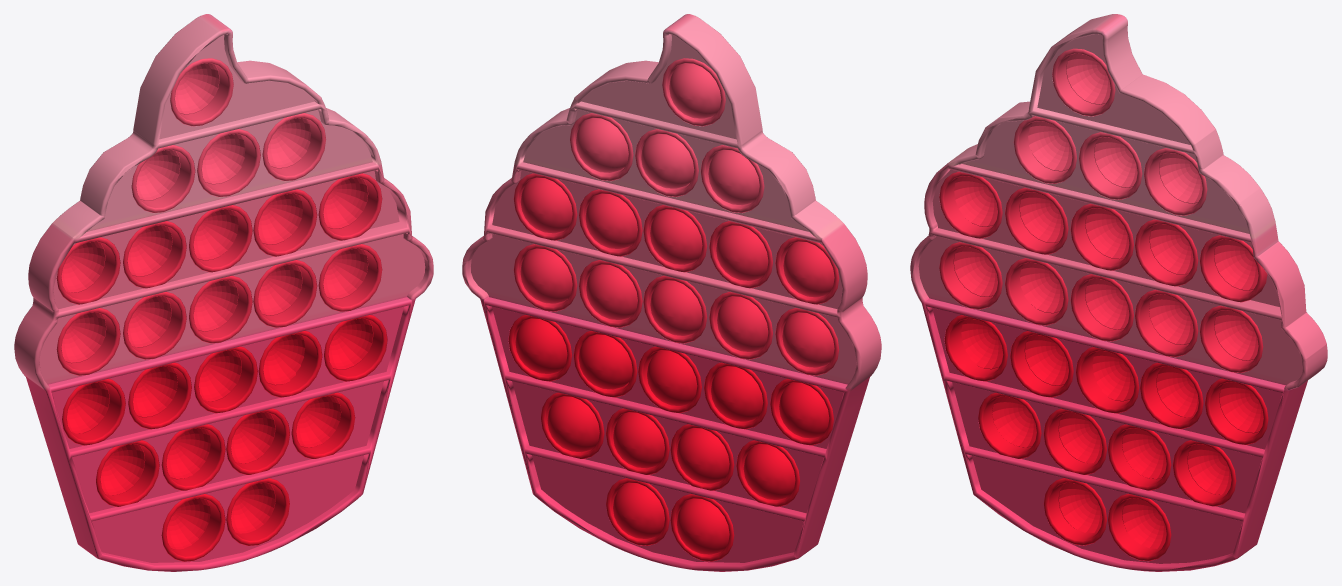
Rendered from Ice Cream Pop.fbx.
3 renders of one model, left to right at view 1: azimuth 30°, elevation 25°; view 2: azimuth 150°, elevation 25°; view 3: azimuth 330°, elevation 25°, orthographic.
Visible parts, largest first — view 1: PopIt06_Frame, PopIt06_Base, Slot15_1, Slot02_1, Slot01_1, Slot12_1, Slot24_1, Slot10_1, Slot16_1, Slot23_1, Slot09_1, Slot18_1 (+40 smaller); view 2: PopIt06_Frame, PopIt06_Base, Pop14_1__9_, Pop14_1__8_, Pop14_1__4_, Pop14_1__6_, Pop00_1__2_, Pop14_1__7_, Pop04_1__2_, Pop00_1__1_, Pop04_1__7_, Pop04_1__1_ (+40 smaller); view 3: PopIt06_Frame, PopIt06_Base, Slot02_1, Slot18_1, Slot16_1, Slot15_1, Slot03_1, Slot24_1, Slot01_1, Slot12_1, Slot13_1, Slot08_1 (+40 smaller).
Boxes of the visible parts, left/top/right/bottom form: PopIt06_Frame: left=14, top=14, right=433, bottom=571; PopIt06_Base: left=39, top=35, right=425, bottom=562; Slot15_1: left=256, top=331, right=322, bottom=397; Slot02_1: left=193, top=129, right=260, bottom=196; Slot01_1: left=259, top=113, right=325, bottom=180; Slot12_1: left=119, top=291, right=186, bottom=359; Slot24_1: left=161, top=494, right=225, bottom=561; Slot10_1: left=247, top=260, right=316, bottom=327; Slot16_1: left=188, top=346, right=257, bottom=413; Slot23_1: left=222, top=478, right=289, bottom=545; Slot09_1: left=312, top=244, right=382, bottom=311; Slot18_1: left=62, top=378, right=125, bottom=445; PopIt06_Frame: left=462, top=14, right=881, bottom=571; PopIt06_Base: left=471, top=35, right=856, bottom=562; Pop14_1__9_: left=578, top=334, right=632, bottom=389; Pop14_1__8_: left=677, top=498, right=729, bottom=554; Pop14_1__4_: left=677, top=428, right=729, bottom=483; Pop14_1__6_: left=547, top=396, right=599, bottom=452; Pop00_1__2_: left=641, top=134, right=694, bottom=188; Pop14_1__7_: left=613, top=483, right=664, bottom=538; Pop04_1__2_: left=650, top=209, right=702, bottom=264; Pop00_1__1_: left=576, top=118, right=628, bottom=172; Pop04_1__7_: left=650, top=280, right=702, bottom=335; Pop04_1__1_: left=585, top=193, right=637, bottom=248; PopIt06_Frame: left=910, top=14, right=1327, bottom=571; PopIt06_Base: left=918, top=34, right=1302, bottom=563; Slot02_1: left=1079, top=132, right=1145, bottom=199; Slot18_1: left=944, top=315, right=1014, bottom=381; Slot16_1: left=1076, top=347, right=1142, bottom=413; Slot15_1: left=1140, top=362, right=1206, bottom=429; Slot03_1: left=1013, top=116, right=1080, bottom=183; Slot24_1: left=1043, top=478, right=1109, bottom=545; Slot01_1: left=1144, top=148, right=1207, bottom=215; Slot12_1: left=1005, top=258, right=1074, bottom=325; Slot13_1: left=939, top=242, right=1006, bottom=309; Slot08_1: left=939, top=171, right=1009, bottom=238.
Bounding box in the file's own units: 1025 × 1317 × 119.
